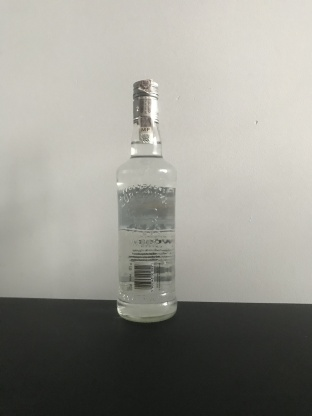nakretka: (130, 77, 160, 126)
